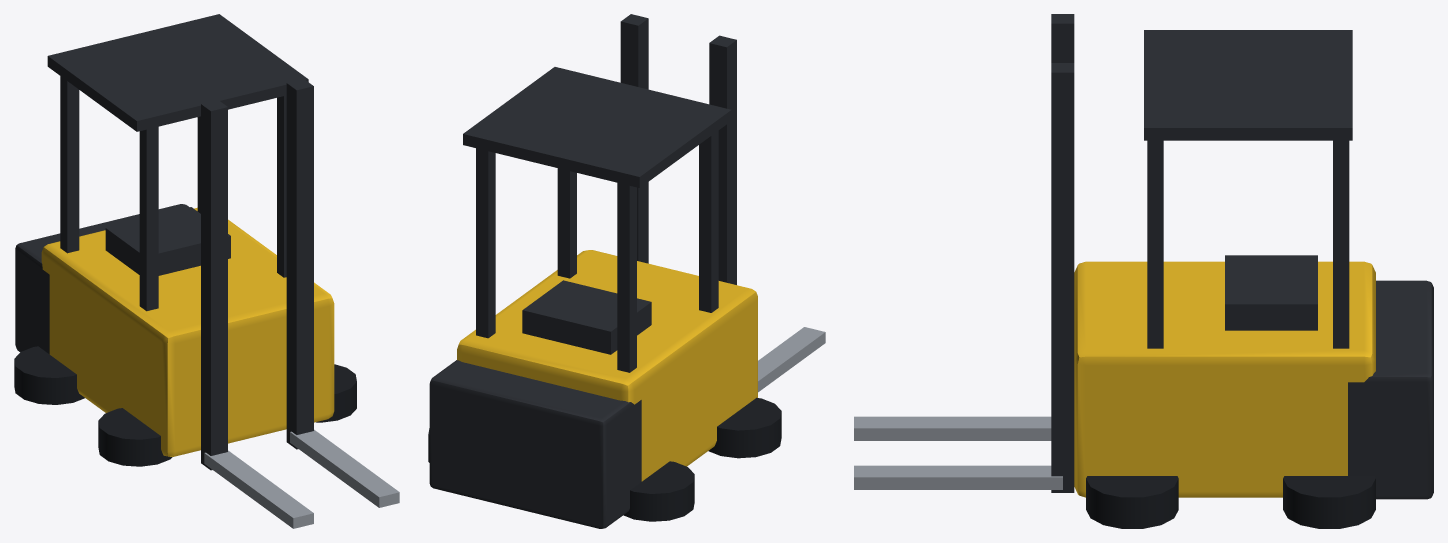
The model's file is forklift.glb.
3 renders of one model, left to right at view 1: azimuth 30°, elevation 25°; view 2: azimuth 150°, elevation 25°; view 3: azimuth 270°, elevation 25°, orthographic. The views are drawn at different scales.
Parts seen in each view (by area): view 1: part-forklift-dark, part-forklift, part-tyre, part-steel; view 2: part-forklift-dark, part-forklift, part-tyre, part-steel; view 3: part-forklift-dark, part-forklift, part-steel, part-tyre.
Part boxes in pixels (x1,y1,x2,y2): part-forklift-dark: (15,14,313,470); part-forklift: (41,207,334,456); part-tyre: (14,346,356,466); part-steel: (204,429,399,528); part-forklift-dark: (429,14,736,528); part-forklift: (457,250,757,481); part-tyre: (428,397,781,521); part-steel: (758,327,825,392); part-forklift-dark: (1051,14,1433,499); part-forklift: (1074,261,1375,497); part-steel: (854,416,1062,489); part-tyre: (1086,476,1375,528).
Size of the model in its own units: 28.8 by 40 by 50.
